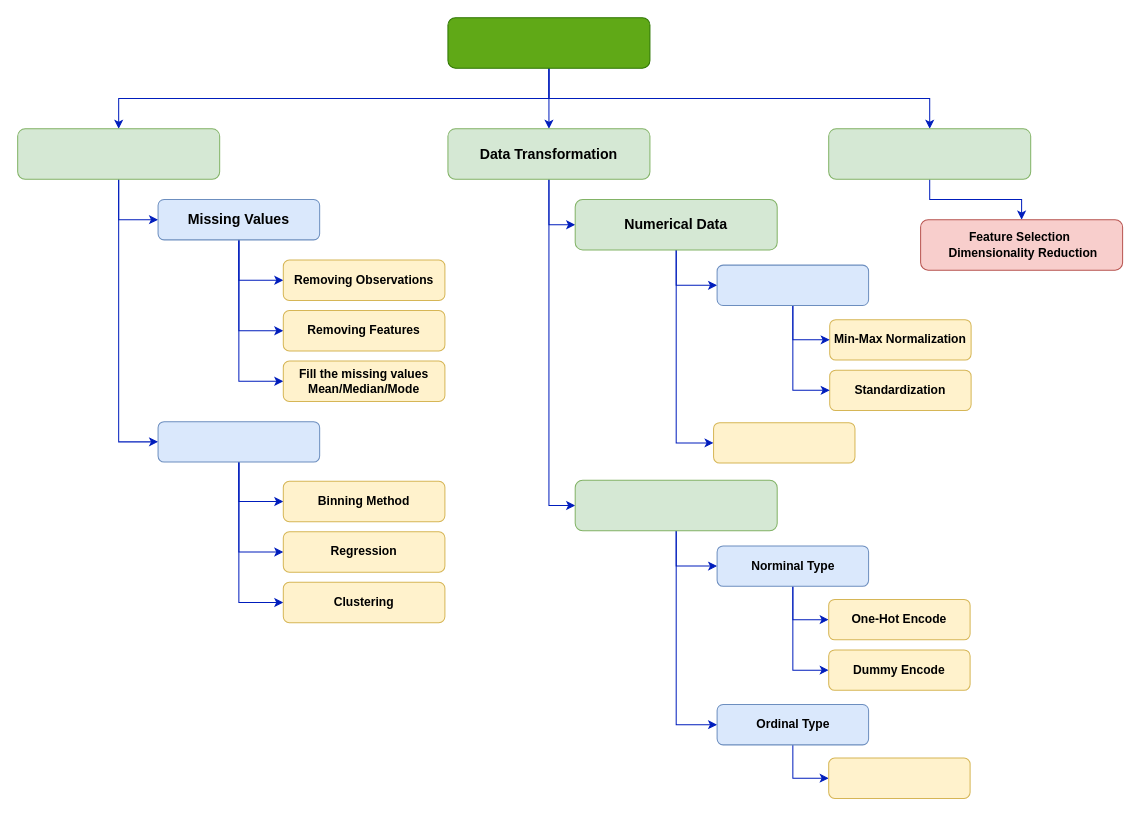
The diagram is 1140 pixels wide and 816 high, and some of its shapes have lost their labels. The shapes that lost their labels are listed below. From the top down, each one's box as (x1, y1, x2, y2) in pixels, then its label:
(447, 17, 650, 68): Data Preprocessing
(17, 128, 220, 179): Data Cleaning
(828, 128, 1031, 179): Data Reduction
(716, 264, 869, 306): Scaling
(157, 421, 320, 462): Nosiy Data (outliers)
(713, 422, 855, 463): Discretization
(574, 479, 777, 531): Categorical Data
(828, 757, 970, 798): Label Encode
